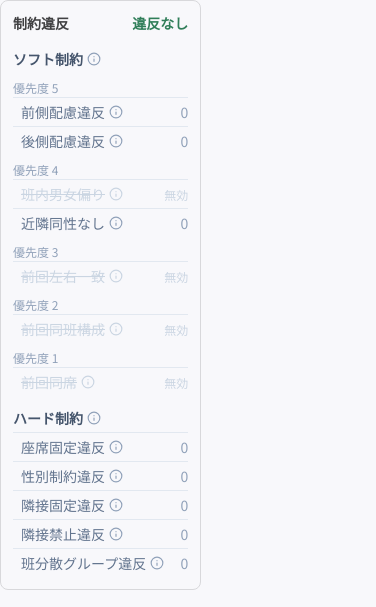
Test: ScoreBreakdownTable ツールチップ › constraintToggles で無効化された制約のラベルをホバーしてもツールチップが表示される
The width and height of the screenshot is (376, 607).
Hover over the button named "班内に男女を最低1人ずつ配置されていない件数" at (116, 194), box [109,187,123,201]
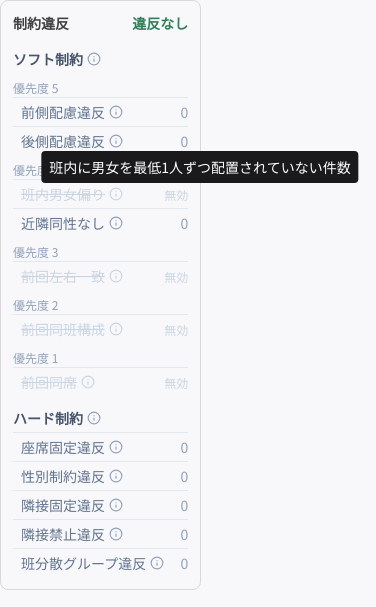
Check: the text "班内に男女を最低1人ずつ配置されていない件数" is shown, box [49,157,351,177]
